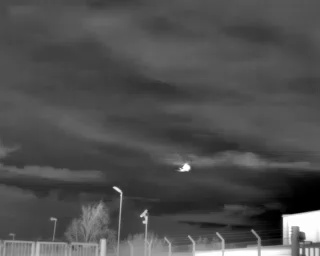HELICOPTER: (174, 159, 195, 178)
